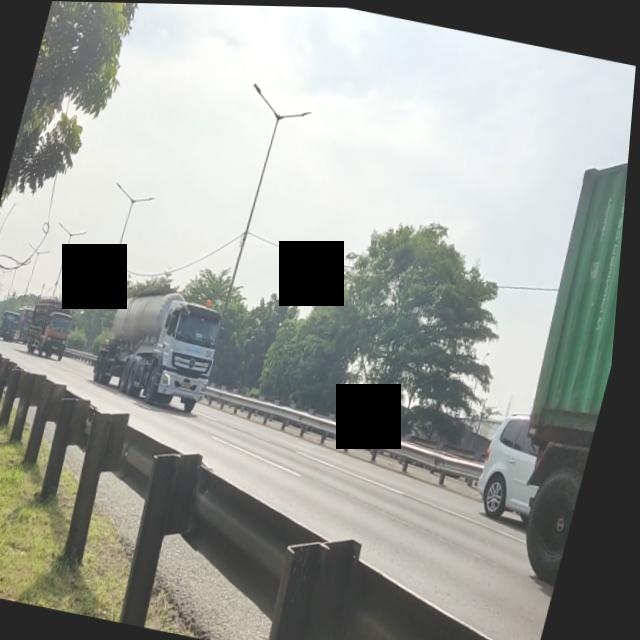Golongan V: (90, 280, 236, 419)
